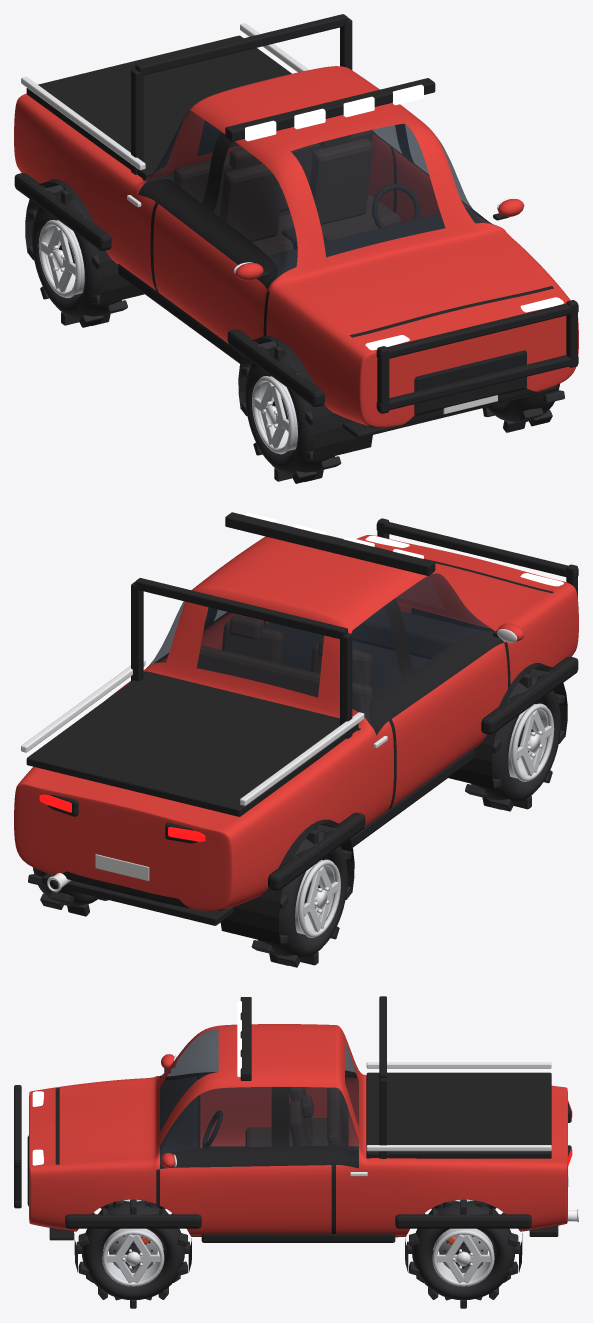
Rendered from tundra.glb.
The picture shows the model from 3 angles, top to bottom: view 1: azimuth 30°, elevation 25°; view 2: azimuth 150°, elevation 25°; view 3: azimuth 270°, elevation 25°; orthographic projection. The views are drawn at different scales.
Visible parts, largest first — view 1: body, wheel_fr, wheel_rr, wheel_fl; view 2: body, wheel_rr, wheel_fr, wheel_rl; view 3: body, wheel_rl, wheel_fl.
Part boxes in pixels (x1,y1,x2,y2): body: [14, 14, 578, 461]; wheel_fr: [241, 341, 341, 483]; wheel_rr: [28, 185, 127, 327]; wheel_fl: [482, 384, 564, 432]; body: [14, 512, 578, 945]; wheel_rr: [251, 824, 351, 967]; wheel_fr: [465, 668, 564, 811]; wheel_rl: [28, 867, 108, 916]; body: [14, 996, 578, 1272]; wheel_rl: [407, 1199, 520, 1308]; wheel_fl: [76, 1199, 189, 1308].
Size of the model in its own units: 2.33 by 2.28 by 5.13.
